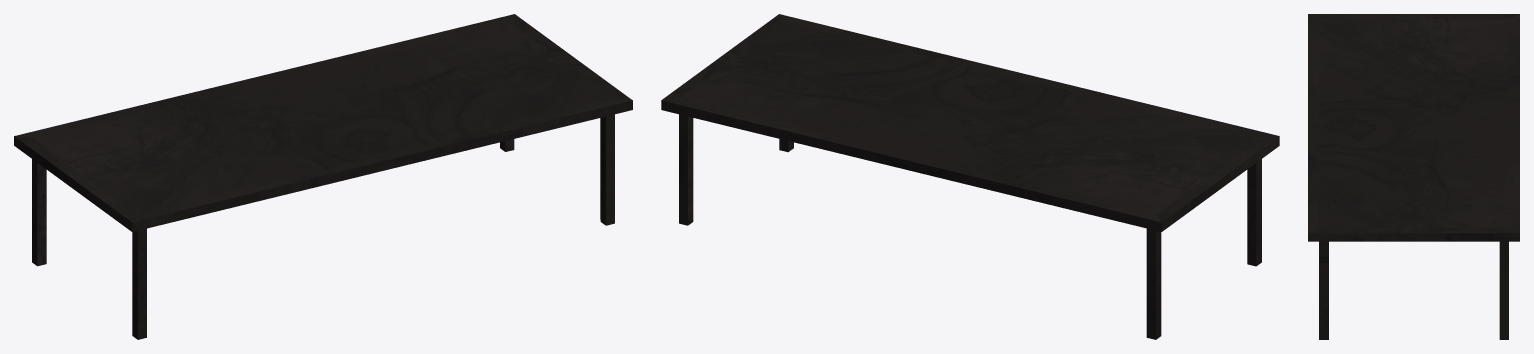
File: conferencetable.obj
The picture shows the model from 3 angles, left to right: view 1: azimuth 30°, elevation 25°; view 2: azimuth 150°, elevation 25°; view 3: azimuth 270°, elevation 25°; orthographic projection. The views are drawn at different scales.
Visible parts, largest first — view 1: conferencetable; view 2: conferencetable; view 3: conferencetable.
Boxes of the visible parts, left/top/right/bottom form: conferencetable: left=14, top=14, right=632, bottom=339; conferencetable: left=661, top=14, right=1279, bottom=339; conferencetable: left=1308, top=14, right=1519, bottom=339.
Bounding box in the file's own units: 4.44 × 1.06 × 1.81.
Materials: 1 (1 with a texture image).
